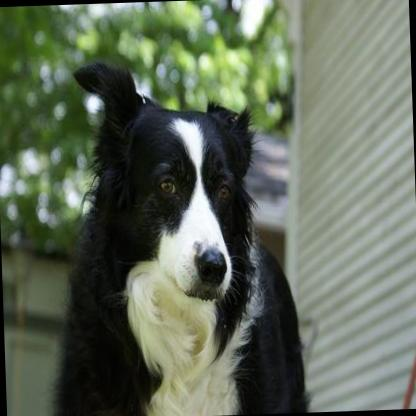collie: (32, 47, 324, 416)
